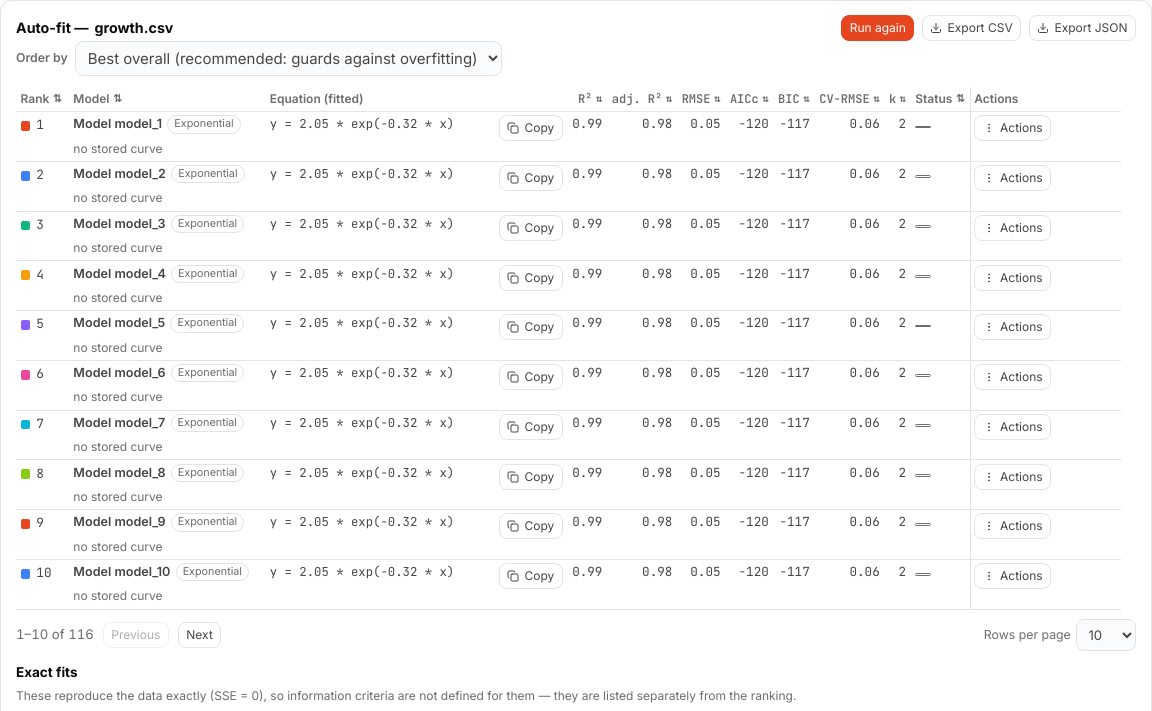
Scenario: AutofitPanel — pagination › moves to the next page
Click the button "Next" at point(200, 635), box [178,622,221,648]
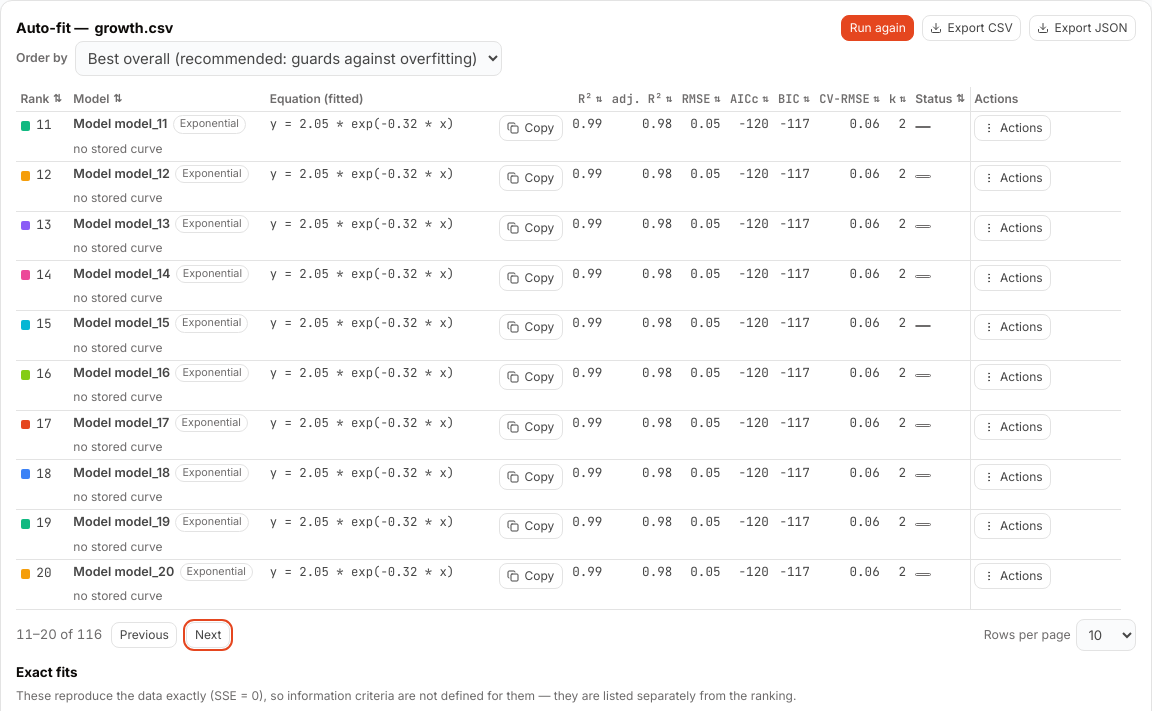
Check: the text "11–20 of 116" is shown, box [16,625,102,645]
Check: the text "Model model_11" is shown, box [73,116,167,132]
